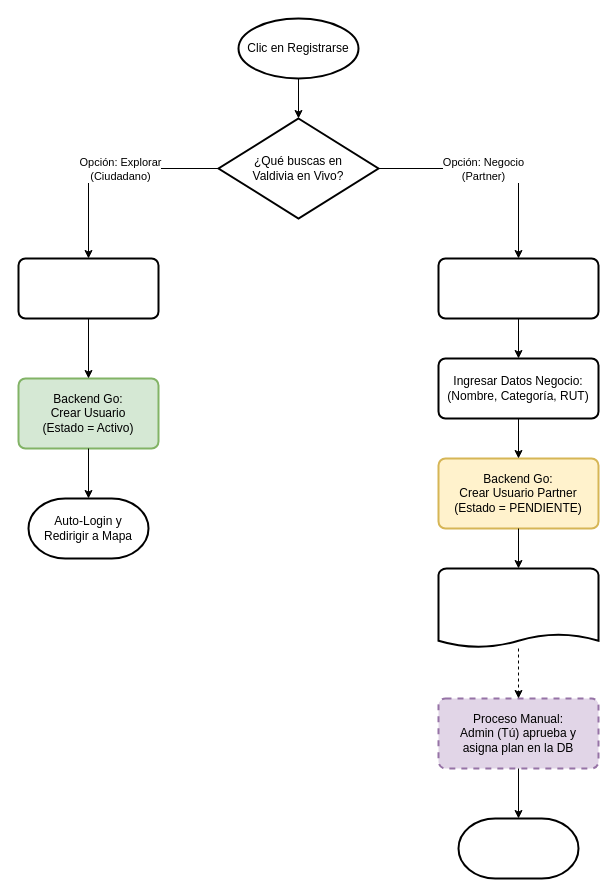
Some shapes in this 616 by 896 pixel diagram are drawn without their labels. The box of each missing label's shape, as (x1, y1, x2, y2) in pixels:
Ingresar: Credenciales del Dueño: (437, 257, 599, 319)
Ingresar: Nombre, Email y Pass: (17, 257, 159, 319)
Pantalla App: "Te contactaremos pronto para activar tu cuenta": (437, 567, 599, 649)
Partner recibe aviso y entra a su Dashboard: (457, 817, 579, 879)
